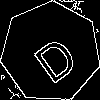D: (25, 27, 81, 86)
